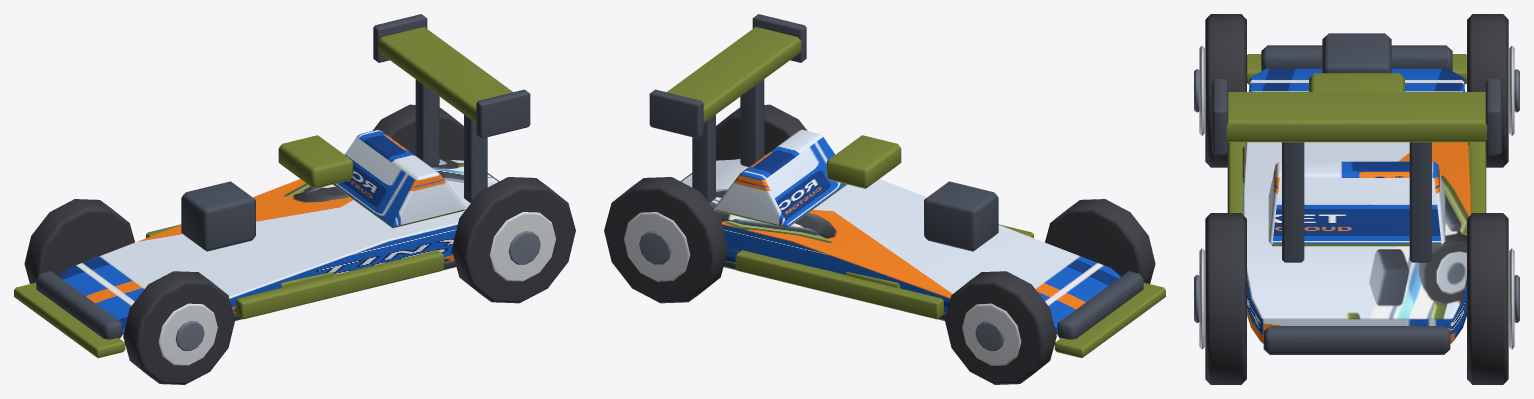
3 renders of one model, left to right at view 1: azimuth 30°, elevation 25°; view 2: azimuth 150°, elevation 25°; view 3: azimuth 270°, elevation 25°, orthographic. The views are drawn at different scales.
Parts seen in each view (by area): view 1: TC-04_connected_shell, Tire.002, TC-04_cabin, Tire, Tire.001, rear airfoil, custom side guard, engine scoop, custom equipment, Rim.002, custom chin, front bumper (+8 smaller); view 2: TC-04_connected_shell, Tire.003, TC-04_cabin, Tire.001, Tire, rear airfoil, custom side guard.001, engine scoop, custom equipment, Rim.003, custom chin, front bumper (+8 smaller); view 3: TC-04_connected_shell, rear airfoil, TC-04_cabin, Tire.002, Tire.003, rear bumper, Tire, Tire.001, front bumper, engine scoop, wing support, wing support.001 (+10 smaller).
Boxes of the visible parts, bbox=[...] form: TC-04_connected_shell: bbox=[59, 155, 497, 334]; Tire.002: bbox=[451, 177, 575, 303]; TC-04_cabin: bbox=[333, 129, 465, 228]; Tire: bbox=[123, 271, 234, 384]; Tire.001: bbox=[24, 199, 134, 283]; rear airfoil: bbox=[378, 27, 512, 122]; custom side guard: bbox=[236, 250, 444, 319]; engine scoop: bbox=[181, 181, 255, 251]; custom equipment: bbox=[278, 135, 353, 188]; Rim.002: bbox=[489, 212, 555, 281]; custom chin: bbox=[14, 282, 125, 358]; front bumper: bbox=[36, 271, 122, 339]; TC-04_connected_shell: bbox=[682, 155, 1120, 334]; Tire.003: bbox=[604, 177, 728, 303]; TC-04_cabin: bbox=[714, 129, 846, 228]; Tire.001: bbox=[945, 271, 1056, 384]; Tire: bbox=[1045, 199, 1155, 283]; rear airfoil: bbox=[667, 27, 801, 122]; custom side guard.001: bbox=[735, 250, 943, 319]; engine scoop: bbox=[924, 181, 998, 251]; custom equipment: bbox=[826, 135, 901, 188]; Rim.003: bbox=[624, 212, 690, 281]; custom chin: bbox=[1054, 282, 1165, 358]; front bumper: bbox=[1057, 271, 1143, 339]; TC-04_connected_shell: bbox=[1243, 68, 1470, 343]; rear airfoil: bbox=[1226, 92, 1487, 142]; TC-04_cabin: bbox=[1268, 161, 1445, 246]; Tire.002: bbox=[1205, 213, 1246, 384]; Tire.003: bbox=[1467, 213, 1508, 384]; rear bumper: bbox=[1263, 326, 1450, 354]; Tire: bbox=[1205, 14, 1246, 167]; Tire.001: bbox=[1467, 14, 1508, 167]; front bumper: bbox=[1261, 45, 1452, 70]; engine scoop: bbox=[1322, 33, 1391, 73]; wing support: bbox=[1282, 142, 1304, 262]; wing support.001: bbox=[1409, 142, 1431, 262].
Bounding box in the file's own units: 444 × 189 × 203.
